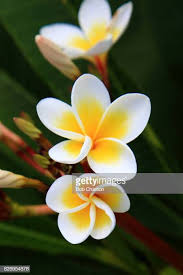frangipani: (37, 74, 152, 181)
